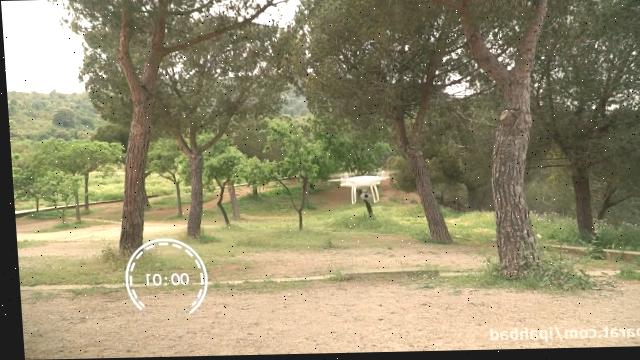drone: (324, 169, 402, 207)
